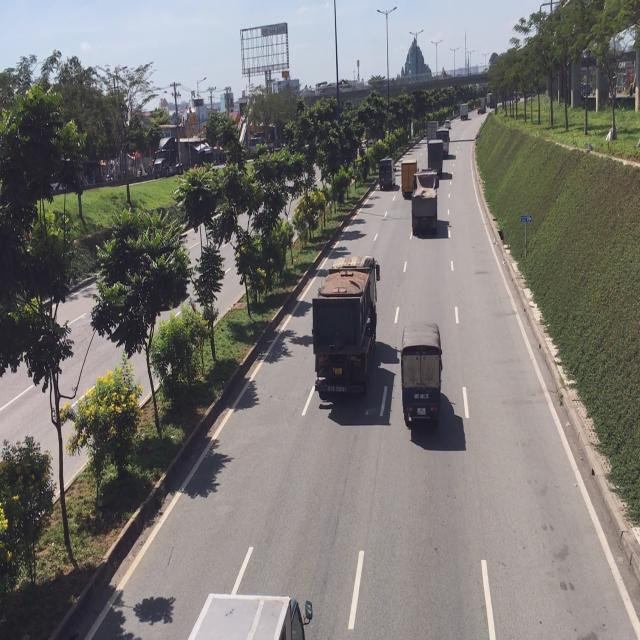truck: (315, 256, 378, 402), (188, 594, 308, 638), (400, 321, 442, 428), (412, 169, 438, 236), (427, 136, 444, 178), (401, 158, 416, 200)
